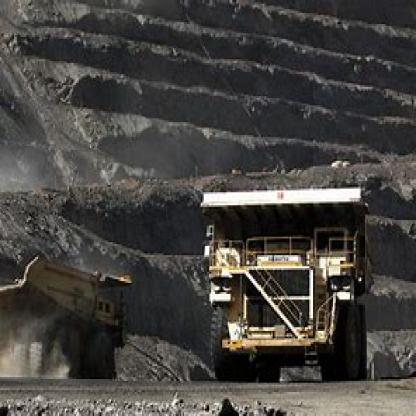dump_truck: (181, 168, 399, 388), (1, 233, 142, 385)
